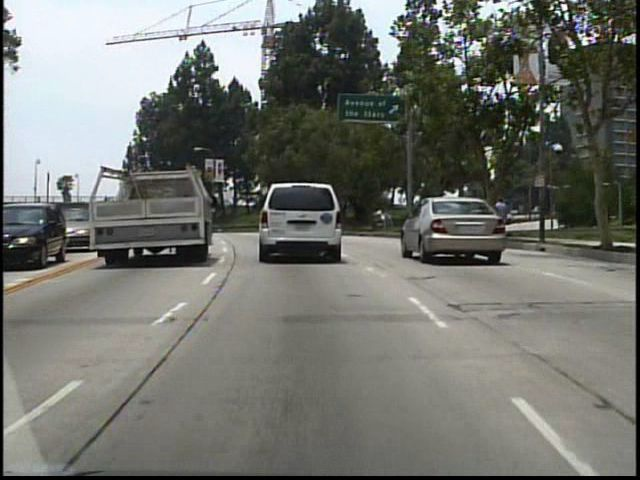person: (489, 192, 511, 239)
